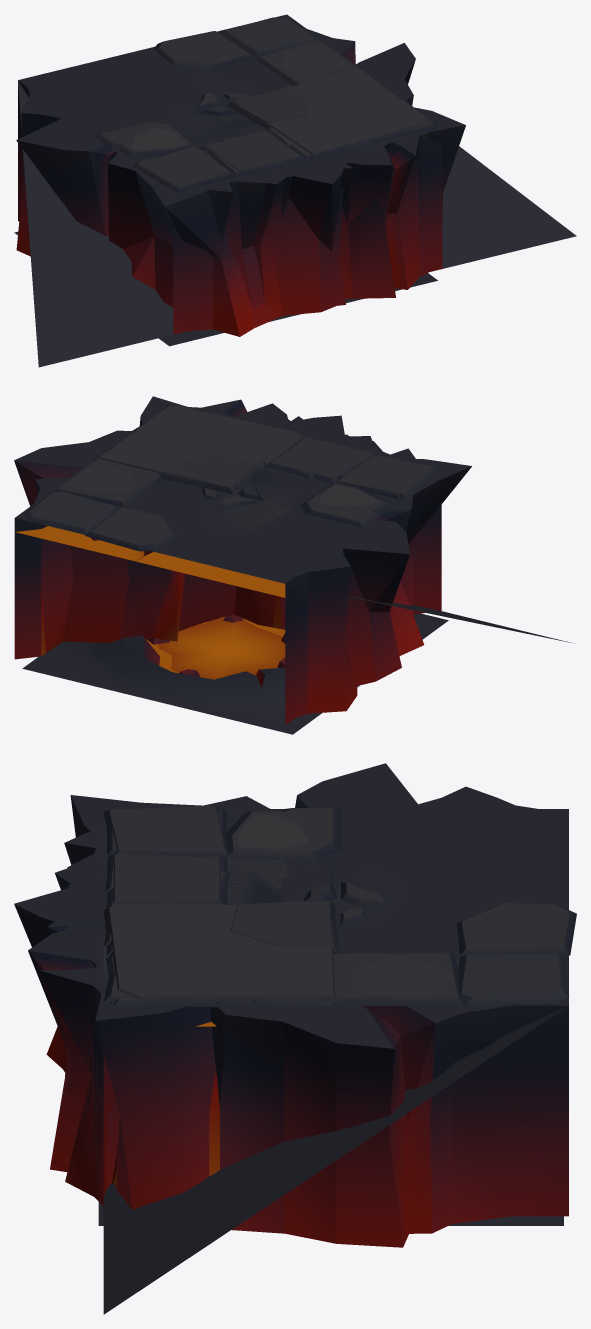
The model's file is magma tileset.fbx.
3 renders of one model, top to bottom at view 1: azimuth 30°, elevation 25°; view 2: azimuth 150°, elevation 25°; view 3: azimuth 270°, elevation 25°, orthographic. The views are drawn at different scales.
Visible parts, largest first — view 1: corner_A, corner_B, ramp_left, middle_B, ruin_D, middle_A, soil_corner, ruin_E, ramp_right, ruin_A, ruin_C, crater; view 2: corner_A, inner_A, crater, ruin_D, ruin_E, soil_corner, ruin_A, ruin_C, corner_B, lava_pit, crack_A, middle_B (+4 smaller); view 3: corner_B, ruin_D, soil_corner, ramp_right, corner_A, ruin_E, middle_B, ruin_A, ruin_C, middle_A, soil_middle, soil_inner_corner (+5 smaller).
Boxes of the visible parts, x1,y1,x2,y2 form: corner_A: [16, 14, 441, 336]; corner_B: [97, 29, 465, 333]; ramp_left: [18, 81, 173, 367]; middle_B: [129, 81, 442, 333]; ruin_D: [134, 17, 427, 186]; middle_A: [100, 78, 442, 334]; soil_corner: [18, 15, 287, 153]; ruin_E: [117, 74, 419, 193]; ramp_right: [442, 146, 576, 268]; ruin_A: [120, 31, 437, 190]; ruin_C: [94, 71, 438, 193]; crater: [14, 231, 437, 346]; corner_A: [15, 404, 471, 725]; inner_A: [14, 485, 441, 659]; crater: [22, 613, 448, 734]; ruin_D: [23, 407, 428, 533]; ruin_E: [97, 404, 441, 538]; soil_corner: [17, 505, 361, 583]; ruin_A: [51, 404, 424, 551]; ruin_C: [92, 404, 440, 543]; corner_B: [14, 396, 406, 530]; lava_pit: [15, 526, 285, 597]; crack_A: [159, 479, 345, 564]; middle_B: [152, 399, 424, 535]; corner_B: [14, 814, 568, 1247]; ruin_D: [103, 809, 568, 1005]; soil_corner: [313, 809, 568, 1005]; ramp_right: [103, 1006, 567, 1314]; corner_A: [46, 763, 568, 1187]; ruin_E: [103, 806, 350, 1006]; middle_B: [28, 811, 383, 1205]; ruin_A: [103, 809, 576, 1007]; ruin_C: [103, 808, 369, 1006]; middle_A: [46, 810, 372, 1172]; soil_middle: [103, 809, 355, 1005]; soil_inner_corner: [103, 809, 369, 1005].
Size of the model in its own units: 400 by 114 by 242.
Materials: 1 (1 with a texture image).
